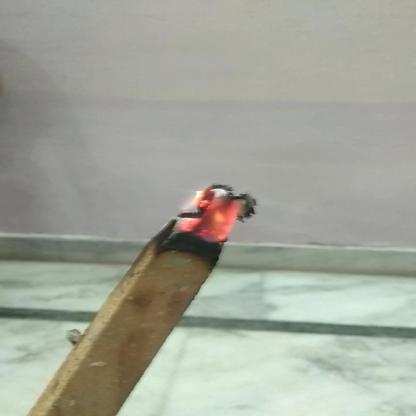fire: (177, 180, 249, 246)
